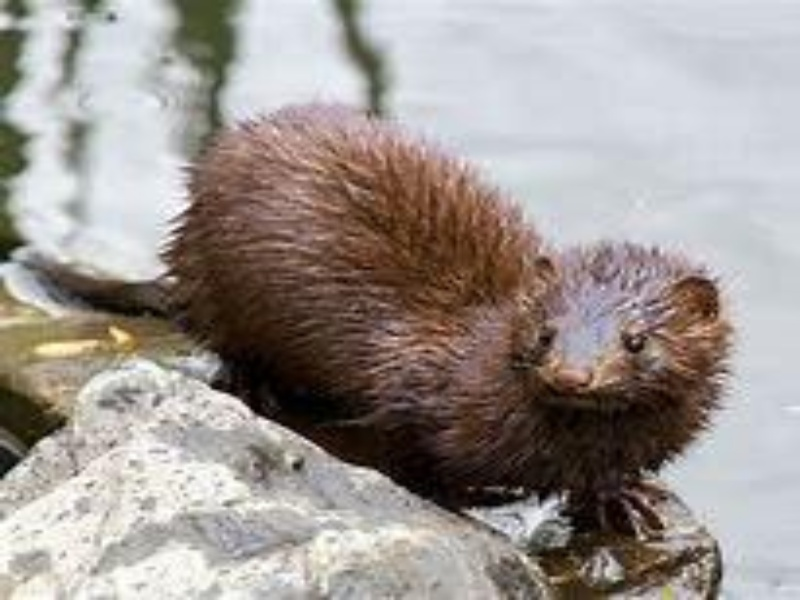minkish: (157, 104, 738, 546)
